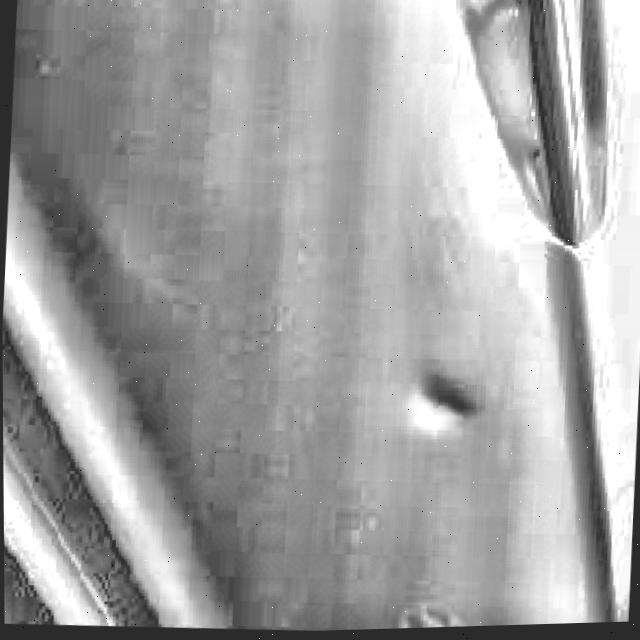door_dent: (390, 581, 485, 629), (401, 377, 478, 434)
